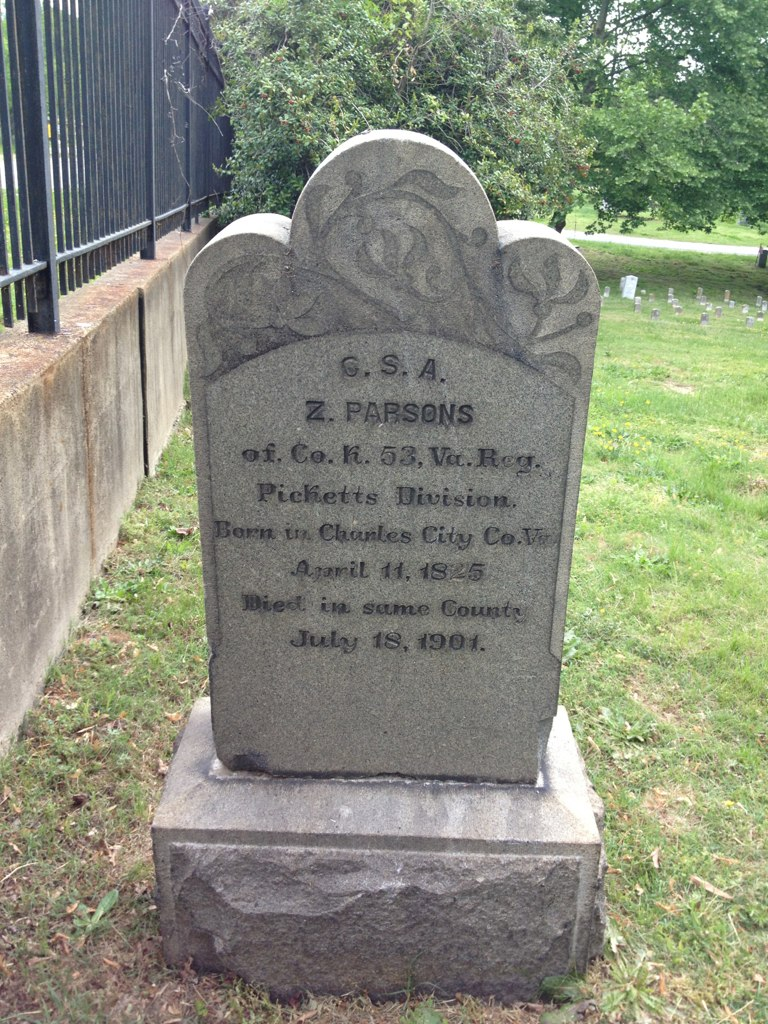upright: (188, 142, 603, 783)
